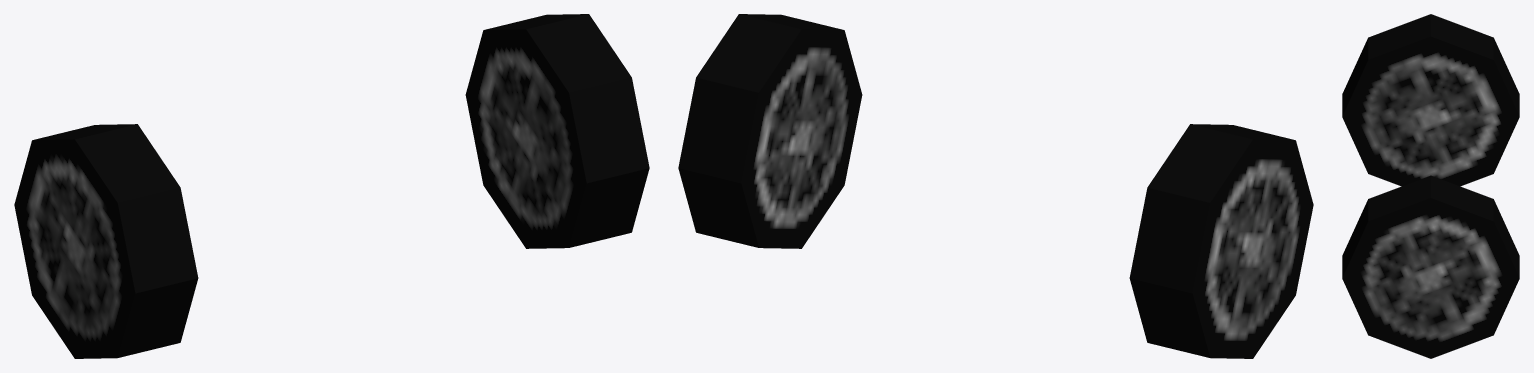
Rendered from mustang_67_wheels_r.obj.
3 views of the same model, side by side, from view 1: azimuth 30°, elevation 25°; view 2: azimuth 150°, elevation 25°; view 3: azimuth 270°, elevation 25° (orthographic). The views are drawn at different scales.
Visible parts, largest first — view 1: mustang_67_wheels_r; view 2: mustang_67_wheels_r; view 3: mustang_67_wheels_r.
Boxes of the visible parts, box(x1,y1,x2,y2) form: mustang_67_wheels_r: box(14, 14, 649, 358); mustang_67_wheels_r: box(678, 14, 1313, 358); mustang_67_wheels_r: box(1342, 14, 1519, 358).
Size of the model in its own units: 1.71 by 0.6973 by 0.6973.
Materials: 1 (1 with a texture image).
